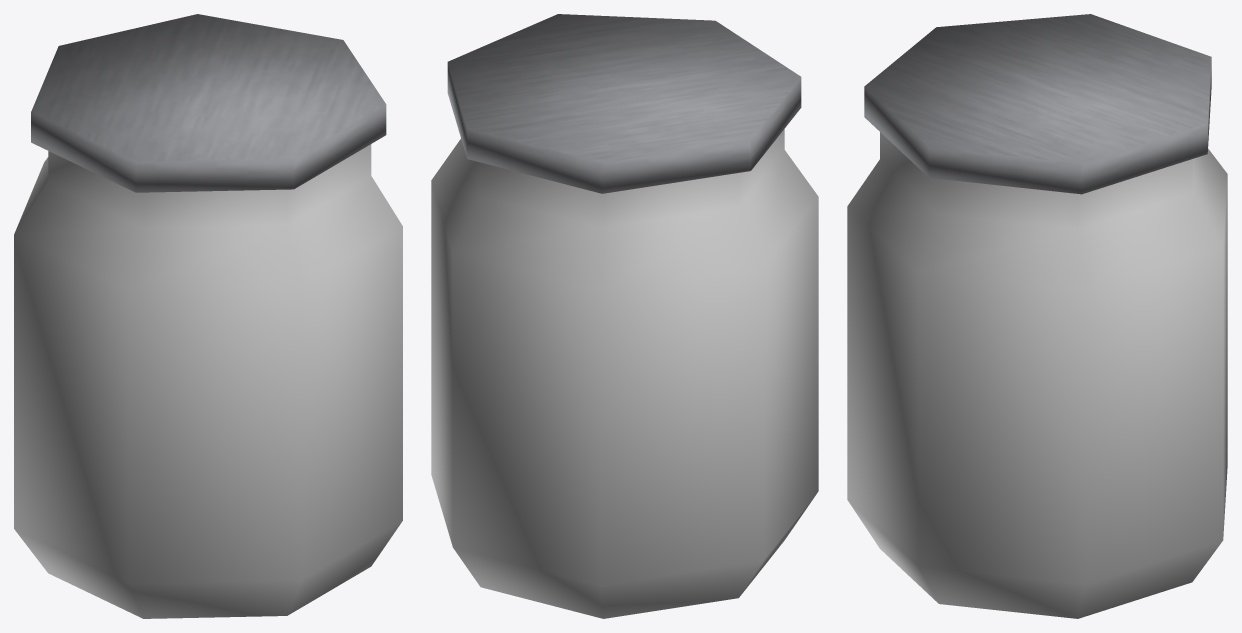
3 views of the same model, side by side, from view 1: azimuth 30°, elevation 25°; view 2: azimuth 150°, elevation 25°; view 3: azimuth 270°, elevation 25° (orthographic).
Parts seen in each view (by area): view 1: Botella003_Material008_0, Taa001_Metal_03001_0; view 2: Botella003_Material008_0, Taa001_Metal_03001_0; view 3: Botella003_Material008_0, Taa001_Metal_03001_0.
Boxes of the visible parts, x1,y1,x2,y2 form: Botella003_Material008_0: [14, 144, 402, 618]; Taa001_Metal_03001_0: [31, 14, 386, 192]; Botella003_Material008_0: [431, 129, 818, 618]; Taa001_Metal_03001_0: [447, 14, 801, 193]; Botella003_Material008_0: [847, 132, 1227, 618]; Taa001_Metal_03001_0: [864, 14, 1211, 194].
Size of the model in its own units: 0.1504 by 0.1977 by 0.1475.
Materials: 3 (2 with a texture image).
